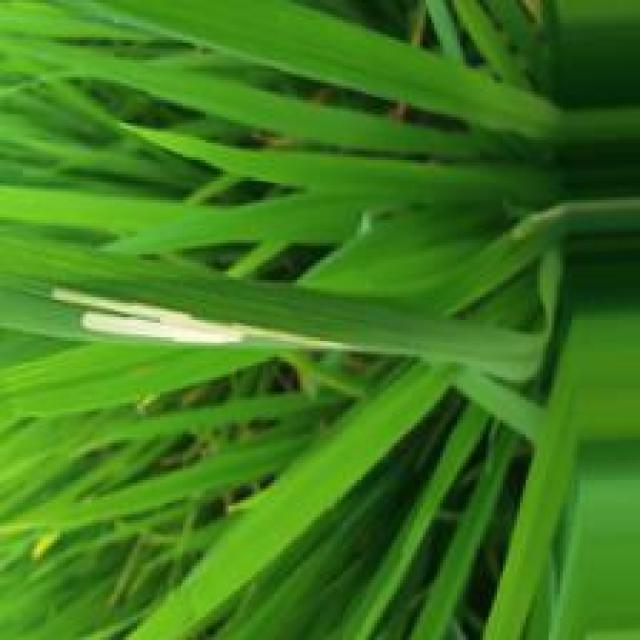Rice_Hispa: (45, 290, 360, 349)
